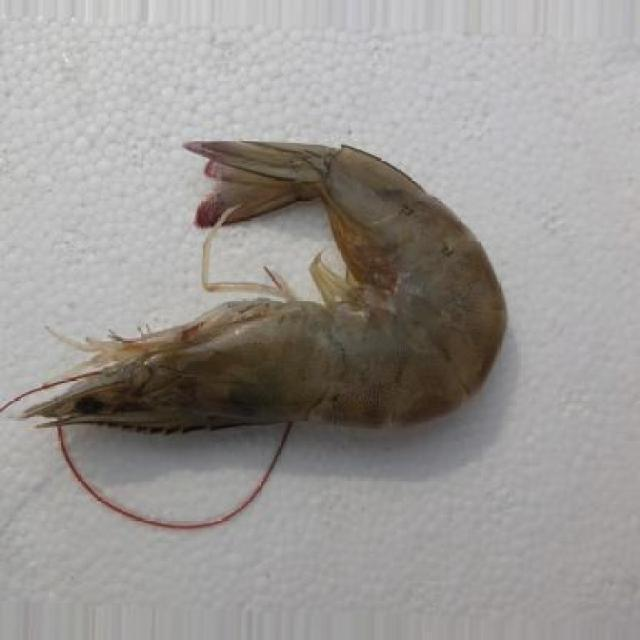shrimp: (2, 123, 516, 435)
